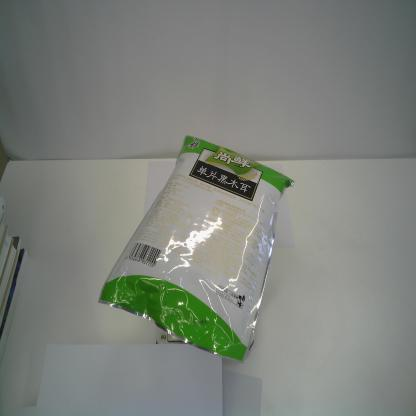Dried Food: (97, 134, 297, 366)
